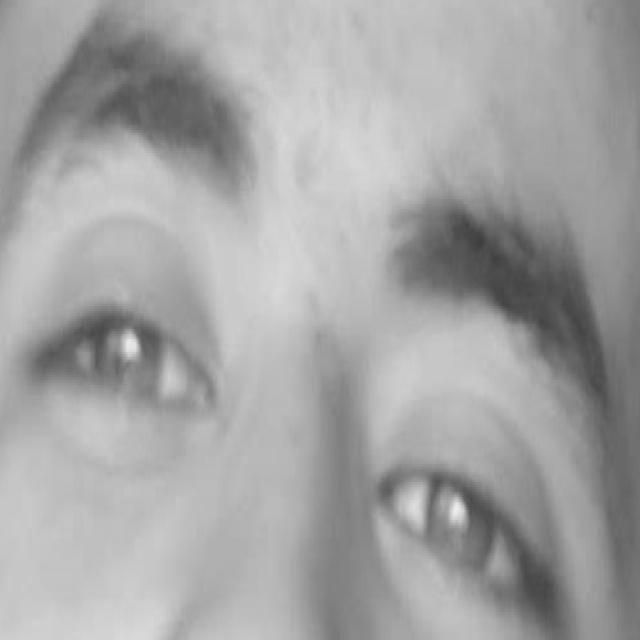real: (17, 101, 601, 640)
